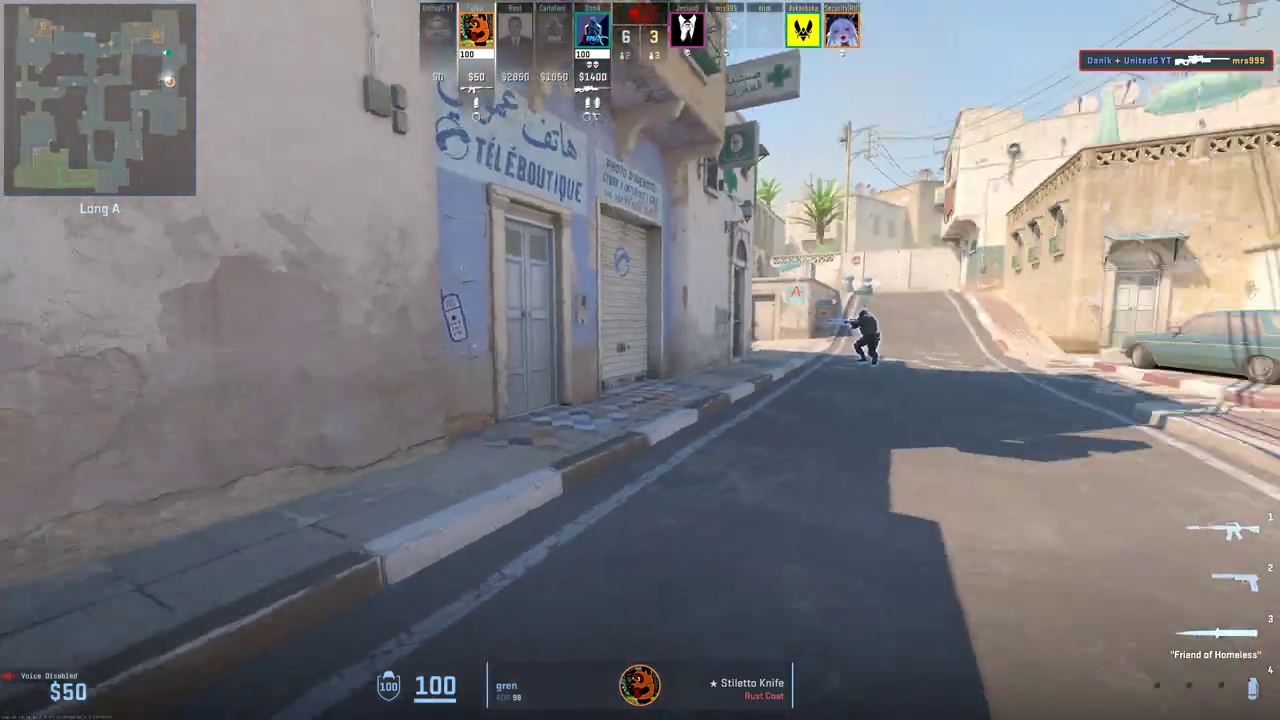CT: (853, 309, 879, 364)
